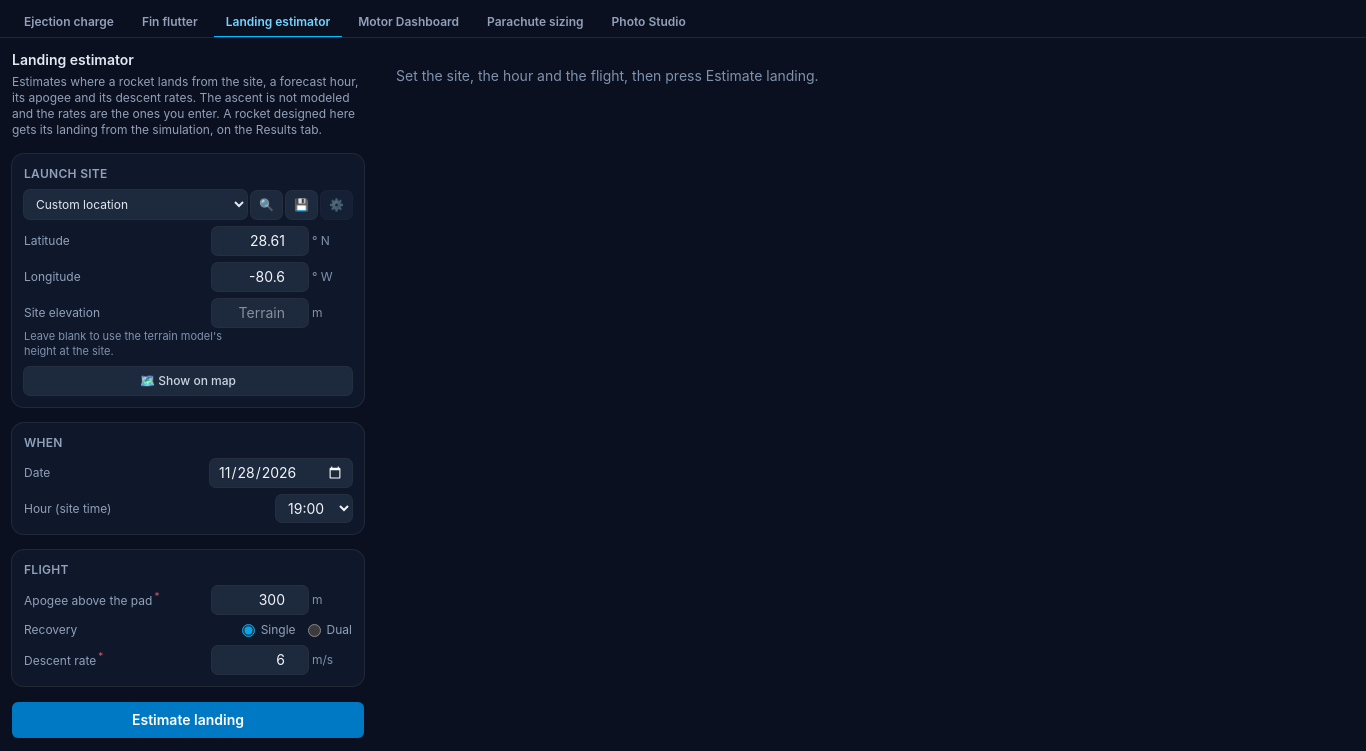
the Tools tab › switches the fin stock to Custom when its shear modulus is typed
Click the tab "Fin flutter" at (170, 23), box 130,8 -> 210,38
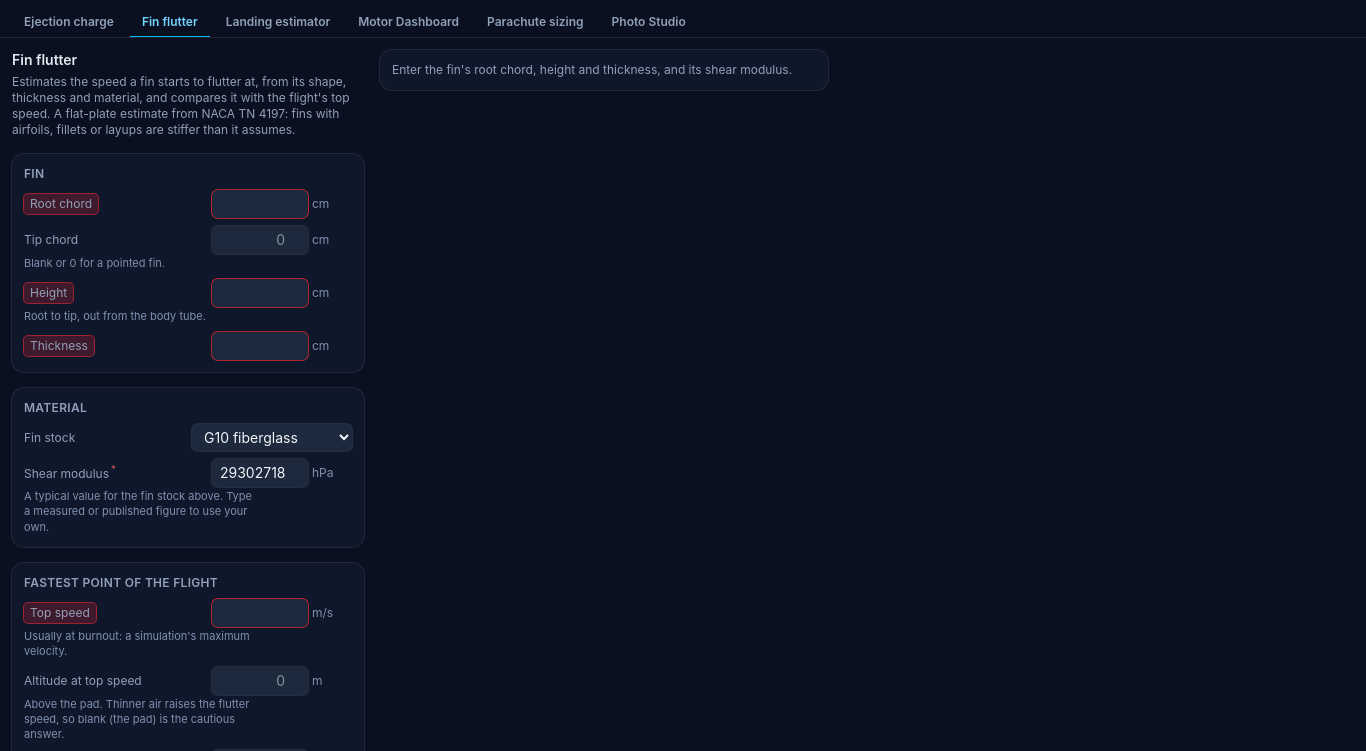
Result: the dropdown labelled "Fin stock" shows "G10 fiberglass" at 192,424 -> 352,451
Replace the text in the number field labelled "Shear modulus" with "5000000" at (260, 473), box 212,459 -> 308,487
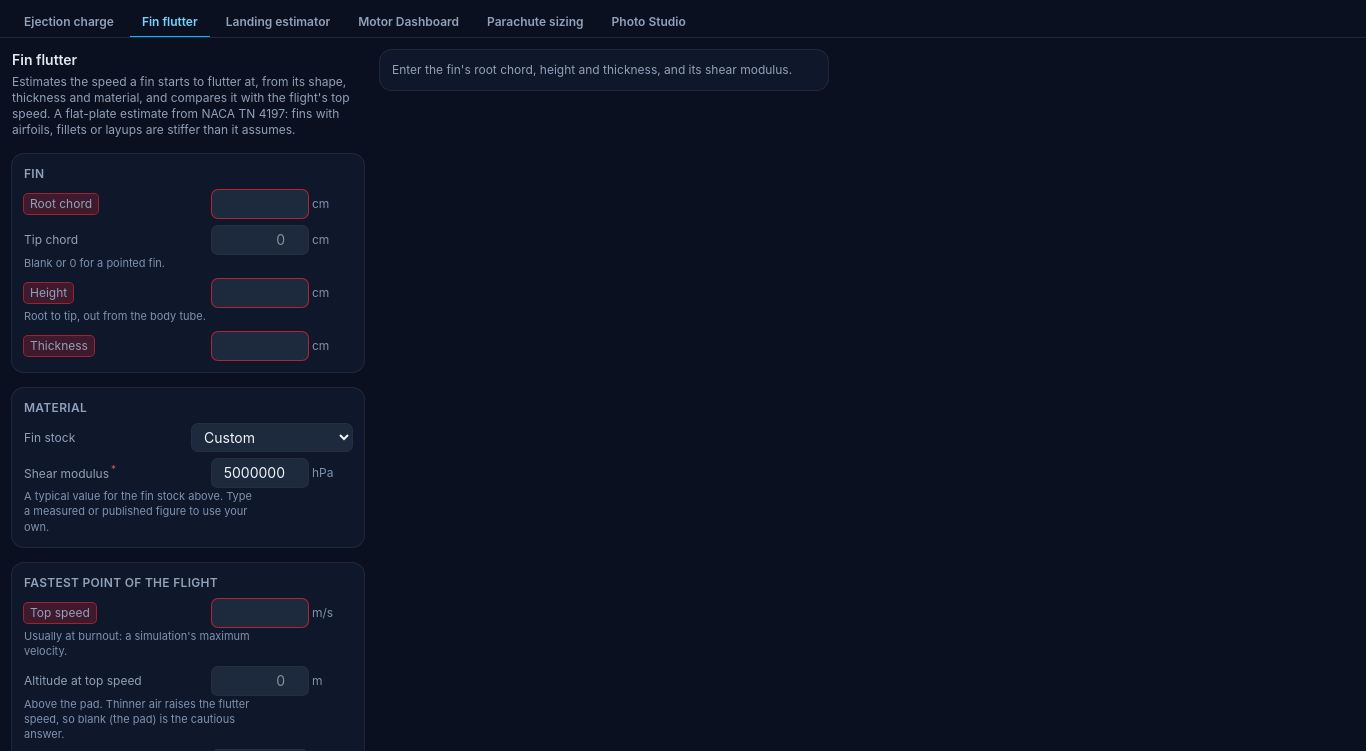
Result: the dropdown labelled "Fin stock" shows "Custom"
Select "Aluminum 6061-T6" in the dropdown labelled "Fin stock" at (272, 438), box 192,424 -> 352,451
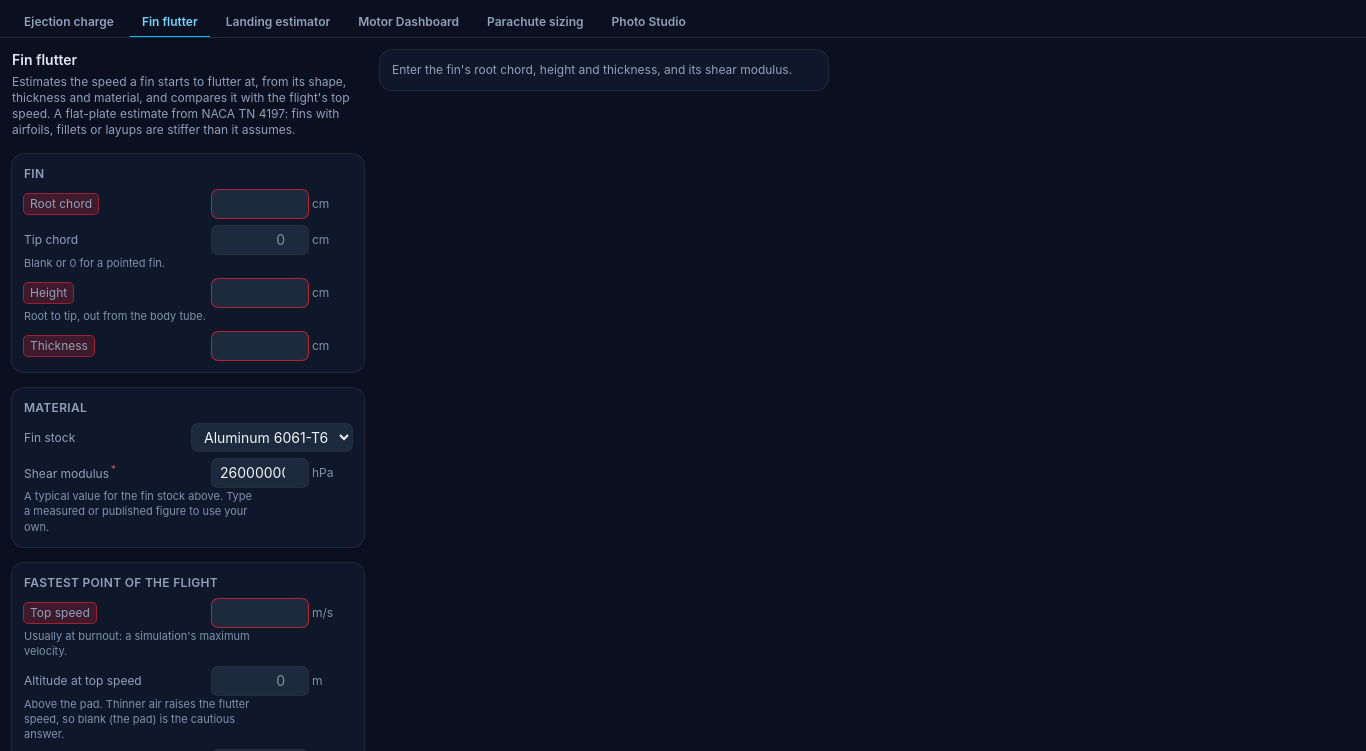
Result: the number field labelled "Shear modulus" holds "260000000" at 212,459 -> 308,487
